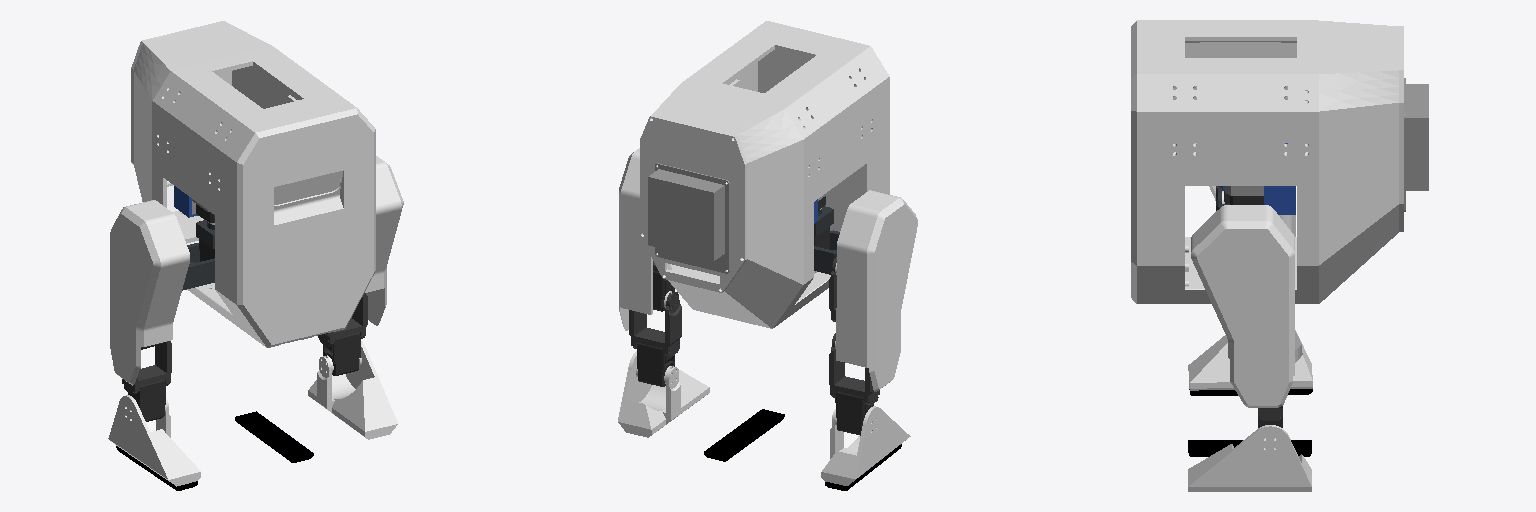
--- Render facts (derived) ---
3 views of the same robot in one strip: view 1: azimuth 30°, elevation 25°; view 2: azimuth 150°, elevation 25°; view 3: azimuth 270°, elevation 25° (orthographic).
Model my-robot with 11 links and 10 joints (10 revolute), rooted at front_panel, posed all joints at 0.
Links seen in each view (by area): view 1: front_panel, servo_holder_3_right, cushion_left, cushion_right, servo_holder_3_left, servo_holder_4_2, servo_holder_4, servo_holder_2_right, servo_holder_1_2; view 2: front_panel, servo_holder_3_right, cushion_left, servo_holder_3_left, cushion_right, servo_holder_4, servo_holder_4_2, servo_holder_2_right, servo_holder_1_2; view 3: front_panel, servo_holder_3_left, cushion_left, cushion_right.
Link boxes in pixels (<box>): front_panel: <box>131,21,375,347</box>; servo_holder_3_right: <box>110,200,189,385</box>; cushion_left: <box>235,341,397,462</box>; cushion_right: <box>108,395,200,490</box>; servo_holder_3_left: <box>365,156,403,325</box>; servo_holder_4_2: <box>122,341,171,421</box>; servo_holder_4: <box>318,293,367,375</box>; servo_holder_2_right: <box>182,243,214,290</box>; servo_holder_1_2: <box>196,220,214,261</box>; front_panel: <box>640,21,889,328</box>; servo_holder_3_right: <box>829,190,917,391</box>; cushion_left: <box>618,351,784,461</box>; servo_holder_3_left: <box>619,148,674,330</box>; cushion_right: <box>821,406,910,490</box>; servo_holder_4: <box>629,291,681,386</box>; servo_holder_4_2: <box>829,333,879,435</box>; servo_holder_2_right: <box>814,230,839,274</box>; servo_holder_1_2: <box>814,206,833,248</box>; front_panel: <box>1131,20,1428,303</box>; servo_holder_3_left: <box>1191,205,1294,407</box>; cushion_left: <box>1188,425,1311,491</box>; cushion_right: <box>1188,330,1312,395</box>.
Size in the robot's own frame: 0.3048 by 0.2892 by 0.4252 metres.
95 mesh visuals loaded from 30 distinct referenced files (30 binary STL).

URDF robot description (my-robot):
<?xml version="1.0" ?>
<!-- Generated using onshape-to-robot -->
<!-- Onshape https://cad.onshape.com/documents/d45957d307d6fbeba266d572/w/bd9f549c3008356ba09feb92/e/47fc9c88b37be00f7acb3002 -->
<robot name="my-robot">
  <!-- Link front_panel -->
  <link name="front_panel">
    <inertial>
      <origin xyz="5.38804e-07 0.137822 0.00392853" rpy="0 0 0"/>
      <mass value="2.11436"/>
      <inertia ixx="0.0268936" ixy="8.14474e-06" ixz="4.80392e-07" iyy="0.0159621" iyz="-0.000408514" izz="0.0215141"/>
    </inertial>
    <!-- Part top_left_panel -->
    <visual>
      <origin xyz="0 0 -1.38778e-17" rpy="0 -0 0"/>
      <geometry>
        <mesh filename="package://assets/top_left_panel.stl"/>
      </geometry>
      <material name="top_left_panel_material">
        <color rgba="0.917647 0.917647 0.917647 1"/>
      </material>
    </visual>
    <collision>
      <origin xyz="0 0 -1.38778e-17" rpy="0 -0 0"/>
      <geometry>
        <mesh filename="package://assets/top_left_panel.stl"/>
      </geometry>
    </collision>
    <!-- Part top_right_panel -->
    <visual>
      <origin xyz="1.38778e-17 0 1.38778e-17" rpy="0 -0 0"/>
      <geometry>
        <mesh filename="package://assets/top_right_panel.stl"/>
      </geometry>
      <material name="top_right_panel_material">
        <color rgba="0.917647 0.917647 0.917647 1"/>
      </material>
    </visual>
    <collision>
      <origin xyz="1.38778e-17 0 1.38778e-17" rpy="0 -0 0"/>
      <geometry>
        <mesh filename="package://assets/top_right_panel.stl"/>
      </geometry>
    </collision>
    <!-- Part front_panel -->
    <visual>
      <origin xyz="0 0 0" rpy="0 -0 0"/>
      <geometry>
        <mesh filename="package://assets/front_panel.stl"/>
      </geometry>
      <material name="front_panel_material">
        <color rgba="0.917647 0.917647 0.917647 1"/>
      </material>
    </visual>
    <collision>
      <origin xyz="0 0 0" rpy="0 -0 0"/>
      <geometry>
        <mesh filename="package://assets/front_panel.stl"/>
      </geometry>
    </collision>
    <!-- Part servo_housing_connector -->
    <visual>
      <origin xyz="0.0505 0.121693 -0.00780285" rpy="0 -0 0"/>
      <geometry>
        <mesh filename="package://assets/servo_housing_connector.stl"/>
      </geometry>
      <material name="servo_housing_connector_material">
        <color rgba="0.917647 0.917647 0.917647 1"/>
      </material>
    </visual>
    <collision>
      <origin xyz="0.0505 0.121693 -0.00780285" rpy="0 -0 0"/>
      <geometry>
        <mesh filename="package://assets/servo_housing_connector.stl"/>
      </geometry>
    </collision>
    <!-- Part bottom_frame -->
    <visual>
      <origin xyz="0 0.0931549 -0.132536" rpy="0 -0 0"/>
      <geometry>
        <mesh filename="package://assets/bottom_frame.stl"/>
      </geometry>
      <material name="bottom_frame_material">
        <color rgba="0.917647 0.917647 0.917647 1"/>
      </material>
    </visual>
    <collision>
      <origin xyz="0 0.0931549 -0.132536" rpy="0 -0 0"/>
      <geometry>
        <mesh filename="package://assets/bottom_frame.stl"/>
      </geometry>
    </collision>
    <!-- Part battery_holder -->
    <visual>
      <origin xyz="0 0.10869 0" rpy="0 -0 0"/>
      <geometry>
        <mesh filename="package://assets/battery_holder.stl"/>
      </geometry>
      <material name="battery_holder_material">
        <color rgba="0.647059 0.647059 0.647059 1"/>
      </material>
    </visual>
    <collision>
      <origin xyz="0 0.10869 0" rpy="0 -0 0"/>
      <geometry>
        <mesh filename="package://assets/battery_holder.stl"/>
      </geometry>
    </collision>
    <!-- Part servo_holder_right -->
    <visual>
      <origin xyz="0.0505 0.121693 -0.00780285" rpy="0 -0 4.93038e-32"/>
      <geometry>
        <mesh filename="package://assets/servo_holder_right.stl"/>
      </geometry>
      <material name="servo_holder_right_material">
        <color rgba="0.647059 0.647059 0.647059 1"/>
      </material>
    </visual>
    <collision>
      <origin xyz="0.0505 0.121693 -0.00780285" rpy="0 -0 4.93038e-32"/>
      <geometry>
        <mesh filename="package://assets/servo_holder_right.stl"/>
      </geometry>
    </collision>
    <!-- Part top_servo_housing -->
    <visual>
      <origin xyz="0.0505 0.121693 -0.00780285" rpy="0 -0 0"/>
      <geometry>
        <mesh filename="package://assets/top_servo_housing.stl"/>
      </geometry>
      <material name="top_servo_housing_material">
        <color rgba="0.231373 0.380392 0.705882 1"/>
      </material>
    </visual>
    <collision>
      <origin xyz="0.0505 0.121693 -0.00780285" rpy="0 -0 0"/>
      <geometry>
        <mesh filename="package://assets/top_servo_housing.stl"/>
      </geometry>
    </collision>
    <!-- Part servo_holder_left -->
    <visual>
      <origin xyz="0.0505 0.121693 -0.00780285" rpy="0 -0 0"/>
      <geometry>
        <mesh filename="package://assets/servo_holder_left.stl"/>
      </geometry>
      <material name="servo_holder_left_material">
        <color rgba="0.647059 0.647059 0.647059 1"/>
      </material>
    </visual>
    <collision>
      <origin xyz="0.0505 0.121693 -0.00780285" rpy="0 -0 0"/>
      <geometry>
        <mesh filename="package://assets/servo_holder_left.stl"/>
      </geometry>
    </collision>
    <!-- Part back_middle_connector_panel -->
    <visual>
      <origin xyz="0 0.10869 0" rpy="0 -0 0"/>
      <geometry>
        <mesh filename="package://assets/back_middle_connector_panel.stl"/>
      </geometry>
      <material name="back_middle_connector_panel_material">
        <color rgba="0.917647 0.917647 0.917647 1"/>
      </material>
    </visual>
    <collision>
      <origin xyz="0 0.10869 0" rpy="0 -0 0"/>
      <geometry>
        <mesh filename="package://assets/back_middle_connector_panel.stl"/>
      </geometry>
    </collision>
    <!-- Part intelrealsense_d435_multibody -->
    <visual>
      <origin xyz="8.31354e-18 -0.00242253 0.0378849" rpy="1.8326 -0 0"/>
      <geometry>
        <mesh filename="package://assets/intelrealsense_d435_multibody.stl"/>
      </geometry>
      <material name="intelrealsense_d435_multibody_material">
        <color rgba="0.917647 0.917647 0.917647 1"/>
      </material>
    </visual>
    <collision>
      <origin xyz="8.31354e-18 -0.00242253 0.0378849" rpy="1.8326 -0 0"/>
      <geometry>
        <mesh filename="package://assets/intelrealsense_d435_multibody.stl"/>
      </geometry>
    </collision>
    <!-- Part composant4 -->
    <visual>
      <origin xyz="-0.0505 0.109426 -0.00780285" rpy="0 -0 -1.5708"/>
      <geometry>
        <mesh filename="package://assets/composant4.stl"/>
      </geometry>
      <material name="composant4_material">
        <color rgba="0.952941 0.796078 0.486275 1"/>
      </material>
    </visual>
    <collision>
      <origin xyz="-0.0505 0.109426 -0.00780285" rpy="0 -0 -1.5708"/>
      <geometry>
        <mesh filename="package://assets/composant4.stl"/>
      </geometry>
    </collision>
    <!-- Part vis_à_tête_tronconique_jis_b_1111___m3_x_4___h_acier_inoxydable_a2_standard_v1 -->
    <visual>
      <origin xyz="-0.0505 0.109426 -0.00780285" rpy="0 -0 -1.5708"/>
      <geometry>
        <mesh filename="package://assets/vis_à_tête_tronconique_jis_b_1111___m3_x_4___h_acier_inoxydable_a2_standard_v1.stl"/>
      </geometry>
      <material name="vis_à_tête_tronconique_jis_b_1111___m3_x_4___h_acier_inoxydable_a2_standard_v1_material">
        <color rgba="0.796078 0.796078 0.796078 1"/>
      </material>
    </visual>
    <collision>
      <origin xyz="-0.0505 0.109426 -0.00780285" rpy="0 -0 -1.5708"/>
      <geometry>
        <mesh filename="package://assets/vis_à_tête_tronconique_jis_b_1111___m3_x_4___h_acier_inoxydable_a2_standard_v1.stl"/>
      </geometry>
    </collision>
    <!-- Part vis -->
    <visual>
      <origin xyz="-0.0505 0.109426 -0.00780285" rpy="0 -0 -1.5708"/>
      <geometry>
        <mesh filename="package://assets/vis.stl"/>
      </geometry>
      <material name="vis_material">
        <color rgba="0.0980392 0.0980392 0.0980392 1"/>
      </material>
    </visual>
    <collision>
      <origin xyz="-0.0505 0.109426 -0.00780285" rpy="0 -0 -1.5708"/>
      <geometry>
        <mesh filename="package://assets/vis.stl"/>
      </geometry>
    </collision>
    <!-- Part composant3 -->
    <visual>
      <origin xyz="-0.0505 0.109426 -0.00780285" rpy="0 -0 -1.5708"/>
      <geometry>
        <mesh filename="package://assets/composant3.stl"/>
      </geometry>
      <material name="composant3_material">
        <color rgba="0.960784 0.960784 0.964706 1"/>
      </material>
    </visual>
    <collision>
      <origin xyz="-0.0505 0.109426 -0.00780285" rpy="0 -0 -1.5708"/>
      <geometry>
        <mesh filename="package://assets/composant3.stl"/>
      </geometry>
    </collision>
    <!-- Part vis_1 -->
    <visual>
      <origin xyz="-0.0505 0.109426 -0.00780285" rpy="0 -0 -1.5708"/>
      <geometry>
        <mesh filename="package://assets/vis_1.stl"/>
      </geometry>
      <material name="vis_1_material">
        <color rgba="0.0980392 0.0980392 0.0980392 1"/>
      </material>
    </visual>
    <collision>
      <origin xyz="-0.0505 0.109426 -0.00780285" rpy="0 -0 -1.5708"/>
      <geometry>
        <mesh filename="package://assets/vis_1.stl"/>
      </geometry>
    </collision>
    <!-- Part composant2 -->
    <visual>
      <origin xyz="-0.0505 0.109426 -0.00780285" rpy="0 -0 -1.5708"/>
      <geometry>
        <mesh filename="package://assets/composant2.stl"/>
      </geometry>
      <material name="composant2_material">
        <color rgba="0.960784 0.960784 0.964706 1"/>
      </material>
    </visual>
    <collision>
      <origin xyz="-0.0505 0.109426 -0.00780285" rpy="0 -0 -1.5708"/>
      <geometry>
        <mesh filename="package://assets/composant2.stl"/>
      </geometry>
    </collision>
    <!-- Part servo_motor_sts3215_v10 -->
    <visual>
      <origin xyz="-0.0505 0.109426 -0.00780285" rpy="0 -0 -1.5708"/>
      <geometry>
        <mesh filename="package://assets/servo_motor_sts3215_v10.stl"/>
      </geometry>
      <material name="servo_motor_sts3215_v10_material">
        <color rgba="0.247059 0.247059 0.247059 1"/>
      </material>
    </visual>
    <collision>
      <origin xyz="-0.0505 0.109426 -0.00780285" rpy="0 -0 -1.5708"/>
      <geometry>
        <mesh filename="package://assets/servo_motor_sts3215_v10.stl"/>
      </geometry>
    </collision>
    <!-- Part composant4_2 -->
    <visual>
      <origin xyz="0.0505 0.109426 -0.00780285" rpy="0 -0 -1.5708"/>
      <geometry>
        <mesh filename="package://assets/composant4.stl"/>
      </geometry>
      <material name="composant4_2_material">
        <color rgba="0.952941 0.796078 0.486275 1"/>
      </material>
    </visual>
    <collision>
      <origin xyz="0.0505 0.109426 -0.00780285" rpy="0 -0 -1.5708"/>
      <geometry>
        <mesh filename="package://assets/composant4.stl"/>
      </geometry>
    </collision>
    <!-- Part vis_à_tête_tronconique_jis_b_1111___m3_x_4___h_acier_inoxydable_a2_standard_v1_2 -->
    <visual>
      <origin xyz="0.0505 0.109426 -0.00780285" rpy="0 -0 -1.5708"/>
      <geometry>
        <mesh filename="package://assets/vis_à_tête_tronconique_jis_b_1111___m3_x_4___h_acier_inoxydable_a2_standard_v1.stl"/>
      </geometry>
      <material name="vis_à_tête_tronconique_jis_b_1111___m3_x_4___h_acier_inoxydable_a2_standard_v1_2_material">
        <color rgba="0.796078 0.796078 0.796078 1"/>
      </material>
    </visual>
    <collision>
      <origin xyz="0.0505 0.109426 -0.00780285" rpy="0 -0 -1.5708"/>
      <geometry>
        <mesh filename="package://assets/vis_à_tête_tronconique_jis_b_1111___m3_x_4___h_acier_inoxydable_a2_standard_v1.stl"/>
      </geometry>
    </collision>
    <!-- Part vis_2 -->
    <visual>
      <origin xyz="0.0505 0.109426 -0.00780285" rpy="0 -0 -1.5708"/>
      <geometry>
        <mesh filename="package://assets/vis.stl"/>
      </geometry>
      <material name="vis_2_material">
        <color rgba="0.0980392 0.0980392 0.0980392 1"/>
      </material>
    </visual>
    <collision>
      <origin xyz="0.0505 0.109426 -0.00780285" rpy="0 -0 -1.5708"/>
      <geometry>
        <mesh filename="package://assets/vis.stl"/>
      </geometry>
    </collision>
    <!-- Part composant3_2 -->
    <visual>
      <origin xyz="0.0505 0.109426 -0.00780285" rpy="0 -0 -1.5708"/>
      <geometry>
        <mesh filename="package://assets/composant3.stl"/>
      </geometry>
      <material name="composant3_2_material">
        <color rgba="0.960784 0.960784 0.964706 1"/>
      </material>
    </visual>
    <collision>
      <origin xyz="0.0505 0.109426 -0.00780285" rpy="0 -0 -1.5708"/>
      <geometry>
        <mesh filename="package://assets/composant3.stl"/>
      </geometry>
    </collision>
    <!-- Part vis_1_2 -->
    <visual>
      <origin xyz="0.0505 0.109426 -0.00780285" rpy="0 -0 -1.5708"/>
      <geometry>
        <mesh filename="package://assets/vis_1.stl"/>
      </geometry>
      <material name="vis_1_2_material">
        <color rgba="0.0980392 0.0980392 0.0980392 1"/>
      </material>
    </visual>
    <collision>
      <origin xyz="0.0505 0.109426 -0.00780285" rpy="0 -0 -1.5708"/>
      <geometry>
        <mesh filename="package://assets/vis_1.stl"/>
      </geometry>
    </collision>
    <!-- Part composant2_2 -->
    <visual>
      <origin xyz="0.0505 0.109426 -0.00780285" rpy="0 -0 -1.5708"/>
      <geometry>
        <mesh filename="package://assets/composant2.stl"/>
      </geometry>
      <material name="composant2_2_material">
        <color rgba="0.960784 0.960784 0.964706 1"/>
      </material>
    </visual>
    <collision>
      <origin xyz="0.0505 0.109426 -0.00780285" rpy="0 -0 -1.5708"/>
      <geometry>
        <mesh filename="package://assets/composant2.stl"/>
      </geometry>
    </collision>
    <!-- Part servo_motor_sts3215_v10_2 -->
    <visual>
      <origin xyz="0.0505 0.109426 -0.00780285" rpy="0 -0 -1.5708"/>
      <geometry>
        <mesh filename="package://assets/servo_motor_sts3215_v10.stl"/>
      </geometry>
      <material name="servo_motor_sts3215_v10_2_material">
        <color rgba="0.247059 0.247059 0.247059 1"/>
      </material>
    </visual>
    <collision>
      <origin xyz="0.0505 0.109426 -0.00780285" rpy="0 -0 -1.5708"/>
      <geometry>
        <mesh filename="package://assets/servo_motor_sts3215_v10.stl"/>
      </geometry>
    </collision>
  </link>
  <!-- Link servo_holder_1 -->
  <link name="servo_holder_1">
    <inertial>
      <origin xyz="0.000579635 -1.8372e-05 -0.0271009" rpy="0 0 0"/>
      <mass value="0.0493776"/>
      <inertia ixx="1.33434e-05" ixy="-5.36033e-10" ixz="2.26521e-07" iyy="1.60993e-05" iyz="2.33279e-08" izz="8.54377e-06"/>
    </inertial>
    <!-- Part servo_holder_1 -->
    <visual>
      <origin xyz="0 0 -0.003" rpy="0 -0 1.80228e-52"/>
      <geometry>
        <mesh filename="package://assets/servo_holder_1.stl"/>
      </geometry>
      <material name="servo_holder_1_material">
        <color rgba="0.262745 0.282353 0.301961 1"/>
      </material>
    </visual>
    <collision>
      <origin xyz="0 0 -0.003" rpy="0 -0 1.80228e-52"/>
      <geometry>
        <mesh filename="package://assets/servo_holder_1.stl"/>
      </geometry>
    </collision>
    <!-- Part composant4_3 -->
    <visual>
      <origin xyz="-1.38778e-17 0 -0.0307" rpy="-1.19758e-48 1.5708 0"/>
      <geometry>
        <mesh filename="package://assets/composant4.stl"/>
      </geometry>
      <material name="composant4_3_material">
        <color rgba="0.952941 0.796078 0.486275 1"/>
      </material>
    </visual>
    <collision>
      <origin xyz="-1.38778e-17 0 -0.0307" rpy="-1.19758e-48 1.5708 0"/>
      <geometry>
        <mesh filename="package://assets/composant4.stl"/>
      </geometry>
    </collision>
    <!-- Part vis_à_tête_tronconique_jis_b_1111___m3_x_4___h_acier_inoxydable_a2_standard_v1_3 -->
    <visual>
      <origin xyz="-1.38778e-17 0 -0.0307" rpy="-1.19758e-48 1.5708 0"/>
      <geometry>
        <mesh filename="package://assets/vis_à_tête_tronconique_jis_b_1111___m3_x_4___h_acier_inoxydable_a2_standard_v1.stl"/>
      </geometry>
      <material name="vis_à_tête_tronconique_jis_b_1111___m3_x_4___h_acier_inoxydable_a2_standard_v1_3_material">
        <color rgba="0.796078 0.796078 0.796078 1"/>
      </material>
    </visual>
    <collision>
      <origin xyz="-1.38778e-17 0 -0.0307" rpy="-1.19758e-48 1.5708 0"/>
      <geometry>
        <mesh filename="package://assets/vis_à_tête_tronconique_jis_b_1111___m3_x_4___h_acier_inoxydable_a2_standard_v1.stl"/>
      </geometry>
    </collision>
    <!-- Part vis_3 -->
    <visual>
      <origin xyz="-1.38778e-17 0 -0.0307" rpy="-1.19758e-48 1.5708 0"/>
      <geometry>
        <mesh filename="package://assets/vis.stl"/>
      </geometry>
      <material name="vis_3_material">
        <color rgba="0.0980392 0.0980392 0.0980392 1"/>
      </material>
    </visual>
    <collision>
      <origin xyz="-1.38778e-17 0 -0.0307" rpy="-1.19758e-48 1.5708 0"/>
      <geometry>
        <mesh filename="package://assets/vis.stl"/>
      </geometry>
    </collision>
    <!-- Part composant3_3 -->
    <visual>
      <origin xyz="-1.38778e-17 0 -0.0307" rpy="-1.19758e-48 1.5708 0"/>
      <geometry>
        <mesh filename="package://assets/composant3.stl"/>
      </geometry>
      <material name="composant3_3_material">
        <color rgba="0.960784 0.960784 0.964706 1"/>
      </material>
    </visual>
    <collision>
      <origin xyz="-1.38778e-17 0 -0.0307" rpy="-1.19758e-48 1.5708 0"/>
      <geometry>
        <mesh filename="package://assets/composant3.stl"/>
      </geometry>
    </collision>
    <!-- Part vis_1_3 -->
    <visual>
      <origin xyz="-1.38778e-17 0 -0.0307" rpy="-1.19758e-48 1.5708 0"/>
      <geometry>
        <mesh filename="package://assets/vis_1.stl"/>
      </geometry>
      <material name="vis_1_3_material">
        <color rgba="0.0980392 0.0980392 0.0980392 1"/>
      </material>
    </visual>
    <collision>
      <origin xyz="-1.38778e-17 0 -0.0307" rpy="-1.19758e-48 1.5708 0"/>
      <geometry>
        <mesh filename="package://assets/vis_1.stl"/>
      </geometry>
    </collision>
    <!-- Part composant2_3 -->
    <visual>
      <origin xyz="-1.38778e-17 0 -0.0307" rpy="-1.19758e-48 1.5708 0"/>
      <geometry>
        <mesh filename="package://assets/composant2.stl"/>
      </geometry>
      <material name="composant2_3_material">
        <color rgba="0.960784 0.960784 0.964706 1"/>
      </material>
    </visual>
    <collision>
      <origin xyz="-1.38778e-17 0 -0.0307" rpy="-1.19758e-48 1.5708 0"/>
      <geometry>
        <mesh filename="package://assets/composant2.stl"/>
      </geometry>
    </collision>
    <!-- Part servo_motor_sts3215_v10_3 -->
    <visual>
      <origin xyz="-1.38778e-17 0 -0.0307" rpy="-1.19758e-48 1.5708 0"/>
      <geometry>
        <mesh filename="package://assets/servo_motor_sts3215_v10.stl"/>
      </geometry>
      <material name="servo_motor_sts3215_v10_3_material">
        <color rgba="0.247059 0.247059 0.247059 1"/>
      </material>
    </visual>
    <collision>
      <origin xyz="-1.38778e-17 0 -0.0307" rpy="-1.19758e-48 1.5708 0"/>
      <geometry>
        <mesh filename="package://assets/servo_motor_sts3215_v10.stl"/>
      </geometry>
    </collision>
  </link>
  <!-- Link servo_holder_2_left -->
  <link name="servo_holder_2_left">
    <inertial>
      <origin xyz="0.0580813 -0.000684249 0.0163595" rpy="0 0 0"/>
      <mass value="0.102592"/>
      <inertia ixx="4.1094e-05" ixy="-1.77793e-06" ixz="2.83518e-06" iyy="7.91882e-05" iyz="2.87726e-07" izz="5.09334e-05"/>
    </inertial>
    <!-- Part servo_holder_2_left -->
    <visual>
      <origin xyz="0 0.0182 0.0182" rpy="-1.5708 -1.80228e-52 0"/>
      <geometry>
        <mesh filename="package://assets/servo_holder_2_left.stl"/>
      </geometry>
      <material name="servo_holder_2_left_material">
        <color rgba="0.262745 0.282353 0.301961 1"/>
      </material>
    </visual>
    <collision>
      <origin xyz="0 0.0182 0.0182" rpy="-1.5708 -1.80228e-52 0"/>
      <geometry>
        <mesh filename="package://assets/servo_holder_2_left.stl"/>
      </geometry>
    </collision>
    <!-- Part composant4_4 -->
    <visual>
      <origin xyz="0.0689457 1.38778e-17 0.00149936" rpy="-3.14159 1.5708 0"/>
      <geometry>
        <mesh filename="package://assets/composant4.stl"/>
      </geometry>
      <material name="composant4_4_material">
        <color rgba="0.952941 0.796078 0.486275 1"/>
      </material>
    </visual>
    <collision>
      <origin xyz="0.0689457 1.38778e-17 0.00149936" rpy="-3.14159 1.5708 0"/>
      <geometry>
        <mesh filename="package://assets/composant4.stl"/>
      </geometry>
    </collision>
    <!-- Part vis_à_tête_tronconique_jis_b_1111___m3_x_4___h_acier_inoxydable_a2_standard_v1_4 -->
    <visual>
      <origin xyz="0.0689457 1.38778e-17 0.00149936" rpy="-3.14159 1.5708 0"/>
      <geometry>
        <mesh filename="package://assets/vis_à_tête_tronconique_jis_b_1111___m3_x_4___h_acier_inoxydable_a2_standard_v1.stl"/>
      </geometry>
      <material name="vis_à_tête_tronconique_jis_b_1111___m3_x_4___h_acier_inoxydable_a2_standard_v1_4_material">
        <color rgba="0.796078 0.796078 0.796078 1"/>
      </material>
    </visual>
    <collision>
      <origin xyz="0.0689457 1.38778e-17 0.00149936" rpy="-3.14159 1.5708 0"/>
      <geometry>
        <mesh filename="package://assets/vis_à_tête_tronconique_jis_b_1111___m3_x_4___h_acier_inoxydable_a2_standard_v1.stl"/>
      </geometry>
    </collision>
    <!-- Part vis_4 -->
    <visual>
      <origin xyz="0.0689457 1.38778e-17 0.00149936" rpy="-3.14159 1.5708 0"/>
      <geometry>
        <mesh filename="package://assets/vis.stl"/>
      </geometry>
      <material name="vis_4_material">
        <color rgba="0.0980392 0.0980392 0.0980392 1"/>
      </material>
    </visual>
    <collision>
      <origin xyz="0.0689457 1.38778e-17 0.00149936" rpy="-3.14159 1.5708 0"/>
      <geometry>
        <mesh filename="package://assets/vis.stl"/>
      </geometry>
    </collision>
    <!-- Part composant3_4 -->
    <visual>
      <origin xyz="0.0689457 1.38778e-17 0.00149936" rpy="-3.14159 1.5708 0"/>
      <geometry>
        <mesh filename="package://assets/composant3.stl"/>
      </geometry>
      <material name="composant3_4_material">
        <color rgba="0.960784 0.960784 0.964706 1"/>
      </material>
    </visual>
    <collision>
      <origin xyz="0.0689457 1.38778e-17 0.00149936" rpy="-3.14159 1.5708 0"/>
      <geometry>
        <mesh filename="package://assets/composant3.stl"/>
      </geometry>
    </collision>
    <!-- Part vis_1_4 -->
    <visual>
      <origin xyz="0.0689457 1.38778e-17 0.00149936" rpy="-3.14159 1.5708 0"/>
      <geometry>
        <mesh filename="package://assets/vis_1.stl"/>
      </geometry>
      <material name="vis_1_4_material">
        <color rgba="0.0980392 0.0980392 0.0980392 1"/>
      </material>
    </visual>
    <collision>
      <origin xyz="0.0689457 1.38778e-17 0.00149936" rpy="-3.14159 1.5708 0"/>
      <geometry>
        <mesh filename="package://assets/vis_1.stl"/>
      </geometry>
    </collision>
    <!-- Part composant2_4 -->
    <visual>
      <origin xyz="0.0689457 1.38778e-17 0.00149936" rpy="-3.14159 1.5708 0"/>
      <geometry>
        <mesh filename="package://assets/composant2.stl"/>
      </geometry>
      <material name="composant2_4_material">
        <color rgba="0.960784 0.960784 0.964706 1"/>
      </material>
    </visual>
    <collision>
      <origin xyz="0.0689457 1.38778e-17 0.00149936" rpy="-3.14159 1.5708 0"/>
      <geometry>
        <mesh filename="package://assets/composant2.stl"/>
      </geometry>
    </collision>
    <!-- Part servo_motor_sts3215_v10_4 -->
    <visual>
      <origin xyz="0.0689457 1.38778e-17 0.00149936" rpy="-3.14159 1.5708 0"/>
      <geometry>
        <mesh filename="package://assets/servo_motor_sts3215_v10.stl"/>
      </geometry>
      <material name="servo_motor_sts3215_v10_4_material">
        <color rgba="0.247059 0.247059 0.247059 1"/>
      </material>
    </visual>
    <collision>
      <origin xyz="0.0689457 1.38778e-17 0.00149936" rpy="-3.14159 1.5708 0"/>
      <geometry>
        <mesh filename="package://assets/servo_motor_sts3215_v10.stl"/>
      </geometry>
    </collision>
  </link>
  <!-- Link servo_holder_3_left -->
  <link name="servo_holder_3_left">
    <inertial>
      <origin xyz="0.0267296 0.0112713 0.00428749" rpy="0 0 0"/>
      <mass value="0.19139"/>
      <inertia ixx="0.000183612" ixy="8.65452e-05" ixz="-2.98109e-05" iyy="0.000536696" iyz="1.59908e-05" izz="0.000608291"/>
    </inertial>
    <!-- Part servo_shield_left -->
    <visual>
      <origin xyz="-1.38778e-17 2.77556e-17 0" rpy="3.14159 1.20371e-35 1.9082e-54"/>
      <geometry>
        <mesh filename="package://assets/servo_shield_left.stl"/>
      </geometry>
      <material name="servo_shield_left_material">
        <color rgba="0.917647 0.917647 0.917647 1"/>
      </material>
    </visual>
    <collision>
      <origin xyz="-1.38778e-17 2.77556e-17 0" rpy="3.14159 1.20371e-35 1.9082e-54"/>
      <geometry>
        <mesh filename="package://assets/servo_shield_left.stl"/>
      </geometry>
    </collision>
    <!-- Part servo_holder_3_left -->
    <visual>
      <origin xyz="0 0 0" rpy="3.14159 -0 0"/>
      <geometry>
        <mesh filename="package://assets/servo_holder_3_left.stl"/>
      </geometry>
      <material name="servo_holder_3_left_material">
        <color rgba="0.301961 0.301961 0.301961 1"/>
      </material>
    </visual>
    <collision>
      <origin xyz="0 0 0" rpy="3.14159 -0 0"/>
      <geometry>
        <mesh filename="package://assets/servo_holder_3_left.stl"/>
      </geometry>
    </collision>
    <!-- Part composant4_5 -->
    <visual>
      <origin xyz="0.0732925 0 0.0178756" rpy="2.40741e-35 -0 0"/>
      <geometry>
        <mesh filename="package://assets/composant4.stl"/>
      </geometry>
      <material name="composant4_5_material">
        <color rgba="0.952941 0.796078 0.486275 1"/>
      </material>
    </visual>
    <collision>
      <origin xyz="0.0732925 0 0.0178756" rpy="2.40741e-35 -0 0"/>
      <geometry>
        <mesh filename="package://assets/composant4.stl"/>
      </geometry>
    </collision>
    <!-- Part vis_à_tête_tronconique_jis_b_1111___m3_x_4___h_acier_inoxydable_a2_standard_v1_5 -->
    <visual>
      <origin xyz="0.0732925 0 0.0178756" rpy="2.40741e-35 -0 0"/>
      <geometry>
        <mesh filename="package://assets/vis_à_tête_tronconique_jis_b_1111___m3_x_4___h_acier_inoxydable_a2_standard_v1.stl"/>
      </geometry>
      <material name="vis_à_tête_tronconique_jis_b_1111___m3_x_4___h_acier_inoxydable_a2_standard_v1_5_material">
        <color rgba="0.796078 0.796078 0.796078 1"/>
      </material>
    </visual>
    <collision>
      <origin xyz="0.0732925 0 0.0178756" rpy="2.40741e-35 -0 0"/>
      <geometry>
        <mesh filename="package://assets/vis_à_tête_tronconique_jis_b_1111___m3_x_4___h_acier_inoxydable_a2_standard_v1.stl"/>
      </geometry>
    </collision>
    <!-- Part vis_5 -->
    <visual>
      <origin xyz="0.0732925 0 0.0178756" rpy="2.40741e-35 -0 0"/>
      <geometry>
        <mesh filename="package://assets/vis.stl"/>
      </geometry>
      <material name="vis_5_material">
        <color rgba="0.0980392 0.0980392 0.0980392 1"/>
      </material>
    </visual>
    <collision>
      <origin xyz="0.0732925 0 0.0178756" rpy="2.40741e-35 -0 0"/>
      <geometry>
        <mesh filename="package://assets/vis.stl"/>
      </geometry>
    </collision>
    <!-- Part composant3_5 -->
    <visual>
      <origin xyz="0.0732925 0 0.0178756" rpy="2.40741e-35 -0 0"/>
      <geometry>
        <mesh filename="package://assets/composant3.stl"/>
      </geometry>
      <material name="composant3_5_material">
        <color rgba="0.960784 0.960784 0.964706 1"/>
      </material>
    </visual>
    <collision>
      <origin xyz="0.0732925 0 0.0178756" rpy="2.40741e-35 -0 0"/>
      <geometry>
        <mesh filename="package://assets/composant3.stl"/>
      </geometry>
    </collision>
    <!-- Part vis_1_5 -->
    <visual>
      <origin xyz="0.0732925 0 0.0178756" rpy="2.40741e-35 -0 0"/>
      <geometry>
        <mesh filename="package://assets/vis_1.stl"/>
      </geometry>
      <material name="vis_1_5_material">
        <color rgba="0.0980392 0.0980392 0.0980392 1"/>
      </material>
    </visual>
    <collision>
      <origin xyz="0.0732925 0 0.0178756" rpy="2.40741e-35 -0 0"/>
      <geometry>
        <mesh filename="package://assets/vis_1.stl"/>
      </geometry>
    </collision>
    <!-- Part composant2_5 -->
    <visual>
      <origin xyz="0.0732925 0 0.0178756" rpy="2.40741e-35 -0 0"/>
      <geometry>
        <mesh filename="package://assets/composant2.stl"/>
      </geometry>
      <material name="composant2_5_material">
        <color rgba="0.960784 0.960784 0.964706 1"/>
      </material>
    </visual>
    <collision>
      <origin xyz="0.0732925 0 0.0178756" rpy="2.40741e-35 -0 0"/>
      <geometry>
        <mesh filename="package://assets/composant2.stl"/>
      </geometry>
    </collision>
    <!-- Part servo_motor_sts3215_v10_5 -->
    <visual>
      <origin xyz="0.0732925 0 0.0178756" rpy="2.40741e-35 -0 0"/>
      <geometry>
        <mesh filename="package://assets/servo_motor_sts3215_v10.stl"/>
      </geometry>
      <material name="servo_motor_sts3215_v10_5_material">
        <color rgba="0.247059 0.247059 0.247059 1"/>
      </material>
    </visual>
    <collision>
      <origin xyz="0.0732925 0 0.0178756" rpy="2.40741e-35 -0 0"/>
      <geometry>
        <mesh filename="package://assets/servo_motor_sts3215_v10.stl"/>
      </geometry>
    </collision>
  </link>
  <!-- Link servo_holder_4 -->
  <link name="servo_holder_4">
    <inertial>
      <origin xyz="0.0568324 -1.23844e-08 0.0184417" rpy="0 0 0"/>
      <mass value="0.0685705"/>
      <inertia ixx="1.76251e-05" ixy="1.73396e-11" ixz="-3.72672e-07" iyy="5.60759e-05" iyz="-1.06476e-11" izz="4.51319e-05"/>
    </inertial>
    <!-- Part servo_holder_4 -->
    <visual>
      <origin xyz="0 0 0" rpy="-3.14159 2.73691e-47 2.60541e-65"/>
      <geometry>
        <mesh filename="package://assets/servo_holder_4.stl"/>
      </geometry>
      <material name="servo_holder_4_material">
        <color rgba="0.301961 0.301961 0.301961 1"/>
      </material>
    </visual>
    <collision>
      <origin xyz="0 0 0" rpy="-3.14159 2.73691e-47 2.60541e-65"/>
      <geometry>
        <mesh filename="package://assets/servo_holder_4.stl"/>
      </geometry>
    </collision>
    <!-- Part composant4_6 -->
    <visual>
      <origin xyz="0.0732925 0 0.0178756" rpy="-1.31228e-30 -7.65581e-31 -6.13909e-17"/>
      <geometry>
        <mesh filename="package://assets/composant4.stl"/>
      </geometry>
      <material name="composant4_6_material">
        <color rgba="0.952941 0.796078 0.486275 1"/>
      </material>
    </visual>
    <collision>
      <origin xyz="0.0732925 0 0.0178756" rpy="-1.31228e-30 -7.65581e-31 -6.13909e-17"/>
      <geometry>
        <mesh filename="package://assets/composant4.stl"/>
      </geometry>
    </collision>
    <!-- Part vis_à_tête_tronconique_jis_b_1111___m3_x_4___h_acier_inoxydable_a2_standard_v1_6 -->
    <visual>
      <origin xyz="0.0732925 0 0.0178756" rpy="-1.31228e-30 -7.65581e-31 -6.13909e-17"/>
      <geometry>
        <mesh filename="package://assets/vis_à_tête_tronconique_jis_b_1111___m3_x_4___h_acier_inoxydable_a2_standard_v1.stl"/>
      </geometry>
      <material name="vis_à_tête_tronconique_jis_b_1111___m3_x_4___h_acier_inoxydable_a2_standard_v1_6_material">
        <color rgba="0.796078 0.796078 0.796078 1"/>
      </material>
    </visual>
    <collision>
      <origin xyz="0.0732925 0 0.0178756" rpy="-1.31228e-30 -7.65581e-31 -6.13909e-17"/>
      <geometry>
        <mesh filename="package://assets/vis_à_tête_tronconique_jis_b_1111___m3_x_4___h_acier_inoxydable_a2_standard_v1.stl"/>
      </geometry>
    </collision>
    <!-- Part vis_6 -->
    <visual>
      <origin xyz="0.0732925 0 0.0178756" rpy="-1.31228e-30 -7.65581e-31 -6.13909e-17"/>
      <geometry>
        <mesh filename="package://assets/vis.stl"/>
      </geometry>
      <material name="vis_6_material">
        <color rgba="0.0980392 0.0980392 0.0980392 1"/>
      </material>
    </visual>
    <collision>
      <origin xyz="0.0732925 0 0.0178756" rpy="-1.31228e-30 -7.65581e-31 -6.13909e-17"/>
      <geometry>
        <mesh filename="package://assets/vis.stl"/>
      </geometry>
    </collision>
    <!-- Part composant3_6 -->
    <visual>
      <origin xyz="0.0732925 0 0.0178756" rpy="-1.31228e-30 -7.65581e-31 -6.13909e-17"/>
      <geometry>
        <mesh filename="package://assets/composant3.stl"/>
      </geometry>
      <material name="composant3_6_material">
        <color rgba="0.960784 0.960784 0.964706 1"/>
      </material>
    </visual>
    <collision>
      <origin xyz="0.0732925 0 0.0178756" rpy="-1.31228e-30 -7.65581e-31 -6.13909e-17"/>
      <geometry>
        <mesh filename="package://assets/composant3.stl"/>
      </geometry>
    </collision>
    <!-- Part vis_1_6 -->
    <visual>
      <origin xyz="0.0732925 0 0.0178756" rpy="-1.31228e-30 -7.65581e-31 -6.13909e-17"/>
      <geometry>
        <mesh filename="package://assets/vis_1.stl"/>
      </geometry>
      <material name="vis_1_6_material">
        <color rgba="0.0980392 0.0980392 0.0980392 1"/>
      </material>
    </visual>
    <collision>
      <origin xyz="0.0732925 0 0.0178756" rpy="-1.31228e-30 -7.65581e-31 -6.13909e-17"/>
      <geometry>
        <mesh filename="package://assets/vis_1.stl"/>
      </geometry>
    </collision>
    <!-- Part composant2_6 -->
    <visual>
      <origin xyz="0.0732925 0 0.0178756" rpy="-1.31228e-30 -7.65581e-31 -6.13909e-17"/>
      <geometry>
        <mesh filename="package://assets/composant2.stl"/>
      </geometry>
      <material name="composant2_6_material">
        <color rgba="0.960784 0.960784 0.964706 1"/>
      </material>
    </visual>
    <collision>
      <origin xyz="0.0732925 0 0.0178756" rpy="-1.31228e-30 -7.65581e-31 -6.13909e-17"/>
      <geometry>
        <mesh filename="package://assets/composant2.stl"/>
      </geometry>
    </collision>
    <!-- Part servo_motor_sts3215_v10_6 -->
    <visual>
      <origin xyz="0.0732925 0 0.0178756" rpy="-1.31228e-30 -7.65581e-31 -6.13909e-17"/>
      <geometry>
        <mesh filename="package://assets/servo_motor_sts3215_v10.stl"/>
      </geometry>
      <material name="servo_motor_sts3215_v10_6_material">
        <color rgba="0.247059 0.247059 0.247059 1"/>
      </material>
    </visual>
    <collision>
      <origin xyz="0.0732925 0 0.0178756" rpy="-1.31228e-30 -7.65581e-31 -6.13909e-17"/>
      <geometry>
        <mesh filename="package://assets/servo_motor_sts3215_v10.stl"/>
      </geometry>
    </collision>
  </link>
  <!-- Link cushion_left -->
  <link name="cushion_left">
    <inertial>
      <origin xyz="-0.0194706 0.0420367 0.0158895" rpy="0 0 0"/>
      <mass value="0.191143"/>
      <inertia ixx="6.6193e-05" ixy="3.74292e-06" ixz="-1.39334e-06" iyy="0.000224241" iyz="-9.58455e-06" izz="0.00023826"/>
    </inertial>
    <!-- Part foot_left -->
    <visual>
      <origin xyz="0 0.0516163 0.0390687" rpy="1.5708 1.5708 0"/>
      <geometry>
        <mesh filename="package://assets/foot_left.stl"/>
      </geometry>
      <material name="foot_left_material">
        <color rgba="0.917647 0.917647 0.917647 1"/>
      </material>
    </visual>
    <!-- Part cushion_left -->
    <visual>
      <origin xyz="0 0.0516163 0.132131" rpy="1.5708 1.5708 0"/>
      <geometry>
        <mesh filename="package://assets/cushion_left.stl"/>
      </geometry>
      <material name="cushion_left_material">
        <color rgba="0 0 0 1"/>
      </material>
    </visual>
    <collision>
      <origin xyz="0 0.0516163 0.132131" rpy="1.5708 1.5708 0"/>
      <geometry>
        <mesh filename="package://assets/cushion_left.stl"/>
      </geometry>
    </collision>
  </link>
  <!-- Joint from servo_holder_4 to cushion_left -->
  <joint name="joint_5_left" type="revolute">
    <origin xyz="0.0857925 0 0.0365756" rpy="3.14159 1.31228e-30 1.5708"/>
    <parent link="servo_holder_4"/>
    <child link="cushion_left"/>
    <axis xyz="0 0 1"/>
    <limit effort="2.686" velocity="9.01" lower="-1.5708" upper="1.5708"/>
    <dynamics damping="0.1" friction="0.05"/>
  </joint>
  <!-- Joint from servo_holder_3_left to servo_holder_4 -->
  <joint name="joint_4_left" type="revolute">
    <origin xyz="0.0857925 0 0.0365756" rpy="-3.14159 -9.52697e-31 -1.51028e-49"/>
    <parent link="servo_holder_3_left"/>
    <child link="servo_holder_4"/>
    <axis xyz="0 0 1"/>
    <limit effort="2.686" velocity="9.01" lower="-1.13446" upper="0.558505"/>
    <dynamics damping="0.1" friction="0.05"/>
  </joint>
  <!-- Joint from servo_holder_2_left to servo_holder_3_left -->
  <joint name="joint_3_left" type="revolute">
    <origin xyz="0.0866457 1.38778e-17 -0.0110006" rpy="1.5708 1.58527e-19 -1.5708"/>
    <parent link="servo_holder_2_left"/>
    <child link="servo_holder_3_left"/>
    <axis xyz="0 0 1"/>
    <limit effort="2.686" velocity="9.01" lower="-3.14159" upper="0.349066"/>
    <dynamics damping="0.1" friction="0.05"/>
  </joint>
  <!-- Joint from servo_holder_1 to servo_holder_2_left -->
  <joint name="joint_2_left" type="revolute">
    <origin xyz="0.0187 0 -0.0432" rpy="1.5708 -0 -1.5708"/>
    <parent link="servo_holder_1"/>
    <child link="servo_holder_2_left"/>
    <axis xyz="0 0 1"/>
    <limit effort="2.686" velocity="9.01" lower="-0.698132" upper="0.785398"/>
    <dynamics damping="0.1" friction="0.05"/>
  </joint>
  <!-- Joint from front_panel to servo_holder_1 -->
  <joint name="joint_1_left" type="revolute">
    <origin xyz="0.0505 0.0969262 -0.0255029" rpy="-3.02761e-17 1.58527e-19 1.5708"/>
    <parent link="front_panel"/>
    <child link="servo_holder_1"/>
    <axis xyz="0 0 1"/>
    <limit effort="2.686" velocity="9.01" lower="-0.349066" upper="0.349066"/>
    <dynamics damping="0.1" friction="0.05"/>
  </joint>
  <!-- Link servo_holder_1_2 -->
  <link name="servo_holder_1_2">
    <inertial>
      <origin xyz="-0.000456244 -1.83429e-05 -0.0271009" rpy="0 0 0"/>
      <mass value="0.0493776"/>
      <inertia ixx="1.33434e-05" ixy="4.03024e-10" ixz="-3.15573e-07" iyy="1.61056e-05" iyz="2.33556e-08" izz="8.55008e-06"/>
    </inertial>
    <!-- Part servo_holder_1_2 -->
    <visual>
      <origin xyz="0 0 -0.003" rpy="0 -0 1.94261e-48"/>
      <geometry>
        <mesh filename="package://assets/servo_holder_1.stl"/>
      </geometry>
      <material name="servo_holder_1_2_material">
        <color rgba="0.262745 0.282353 0.301961 1"/>
      </material>
    </visual>
    <collision>
      <origin xyz="0 0 -0.003" rpy="0 -0 1.94261e-48"/>
      <geometry>
        <mesh filename="package://assets/servo_holder_1.stl"/>
      </geometry>
    </collision>
    <!-- Part composant4_7 -->
    <visual>
      <origin xyz="0 0 -0.0307" rpy="3.14159 1.5708 0"/>
      <geometry>
        <mesh filename="package://assets/composant4.stl"/>
      </geometry>
      <material name="composant4_7_material">
        <color rgba="0.952941 0.796078 0.486275 1"/>
      </material>
    </visual>
    <collision>
      <origin xyz="0 0 -0.0307" rpy="3.14159 1.5708 0"/>
      <geometry>
        <mesh filename="package://assets/composant4.stl"/>
      </geometry>
    </collision>
    <!-- Part vis_à_tête_tronconique_jis_b_1111___m3_x_4___h_acier_inoxydable_a2_standard_v1_7 -->
    <visual>
      <origin xyz="0 0 -0.0307" rpy="3.14159 1.5708 0"/>
      <geometry>
        <mesh filename="package://assets/vis_à_tête_tronconique_jis_b_1111___m3_x_4___h_acier_inoxydable_a2_standard_v1.stl"/>
      </geometry>
      <material name="vis_à_tête_tronconique_jis_b_1111___m3_x_4___h_acier_inoxydable_a2_standard_v1_7_material">
        <color rgba="0.796078 0.796078 0.796078 1"/>
      </material>
    </visual>
    <collision>
      <origin xyz="0 0 -0.0307" rpy="3.14159 1.5708 0"/>
      <geometry>
        <mesh filename="package://assets/vis_à_tête_tronconique_jis_b_1111___m3_x_4___h_acier_inoxydable_a2_standard_v1.stl"/>
      </geometry>
    </collision>
    <!-- Part vis_7 -->
    <visual>
      <origin xyz="0 0 -0.0307" rpy="3.14159 1.5708 0"/>
      <geometry>
        <mesh filename="package://assets/vis.stl"/>
      </geometry>
      <material name="vis_7_material">
        <color rgba="0.0980392 0.0980392 0.0980392 1"/>
      </material>
    </visual>
    <collision>
      <origin xyz="0 0 -0.0307" rpy="3.14159 1.5708 0"/>
      <geometry>
        <mesh filename="package://assets/vis.stl"/>
      </geometry>
    </collision>
    <!-- Part composant3_7 -->
    <visual>
      <origin xyz="0 0 -0.0307" rpy="3.14159 1.5708 0"/>
      <geometry>
        <mesh filename="package://assets/composant3.stl"/>
      </geometry>
      <material name="composant3_7_material">
        <color rgba="0.960784 0.960784 0.964706 1"/>
      </material>
    </visual>
    <collision>
      <origin xyz="0 0 -0.0307" rpy="3.14159 1.5708 0"/>
      <geometry>
        <mesh filename="package://assets/composant3.stl"/>
      </geometry>
    </collision>
    <!-- Part vis_1_7 -->
    <visual>
      <origin xyz="0 0 -0.0307" rpy="3.14159 1.5708 0"/>
      <geometry>
        <mesh filename="package://assets/vis_1.stl"/>
      </geometry>
      <material name="vis_1_7_material">
        <color rgba="0.0980392 0.0980392 0.0980392 1"/>
      </material>
    </visual>
    <collision>
      <origin xyz="0 0 -0.0307" rpy="3.14159 1.5708 0"/>
      <geometry>
        <mesh filename="package://assets/vis_1.stl"/>
      </geometry>
    </collision>
    <!-- Part composant2_7 -->
    <visual>
      <origin xyz="0 0 -0.0307" rpy="3.14159 1.5708 0"/>
      <geometry>
        <mesh filename="package://assets/composant2.stl"/>
      </geometry>
      <material name="composant2_7_material">
        <color rgba="0.960784 0.960784 0.964706 1"/>
      </material>
    </visual>
    <collision>
      <origin xyz="0 0 -0.0307" rpy="3.14159 1.5708 0"/>
      <geometry>
        <mesh filename="package://assets/composant2.stl"/>
      </geometry>
    </collision>
    <!-- Part servo_motor_sts3215_v10_7 -->
    <visual>
      <origin xyz="0 0 -0.0307" rpy="3.14159 1.5708 0"/>
      <geometry>
        <mesh filename="package://assets/servo_motor_sts3215_v10.stl"/>
      </geometry>
      <material name="servo_motor_sts3215_v10_7_material">
        <color rgba="0.247059 0.247059 0.247059 1"/>
      </material>
    </visual>
    <collision>
      <origin xyz="0 0 -0.0307" rpy="3.14159 1.5708 0"/>
      <geometry>
        <mesh filename="package://assets/servo_motor_sts3215_v10.stl"/>
      </geometry>
    </collision>
  </link>
  <!-- Link servo_holder_2_right -->
  <link name="servo_holder_2_right">
    <inertial>
      <origin xyz="-0.0579795 -0.000696507 0.0162624" rpy="0 0 0"/>
      <mass value="0.103289"/>
      <inertia ixx="4.12917e-05" ixy="1.79684e-06" ixz="-2.68334e-06" iyy="7.95052e-05" iyz="2.69597e-07" izz="5.11299e-05"/>
    </inertial>
    <!-- Part servo_holder_2_right -->
    <visual>
      <origin xyz="0.100812 0.0182 0.0129527" rpy="-1.5708 0.104008 6.19646e-33"/>
      <geometry>
        <mesh filename="package://assets/servo_holder_2_right.stl"/>
      </geometry>
      <material name="servo_holder_2_right_material">
        <color rgba="0.262745 0.282353 0.301961 1"/>
      </material>
    </visual>
    <collision>
      <origin xyz="0.100812 0.0182 0.0129527" rpy="-1.5708 0.104008 6.19646e-33"/>
      <geometry>
        <mesh filename="package://assets/servo_holder_2_right.stl"/>
      </geometry>
    </collision>
    <!-- Part composant4_8 -->
    <visual>
      <origin xyz="-0.0689457 -1.38778e-16 0.00149936" rpy="-6.39169e-18 1.5708 0"/>
      <geometry>
        <mesh filename="package://assets/composant4.stl"/>
      </geometry>
      <material name="composant4_8_material">
        <color rgba="0.952941 0.796078 0.486275 1"/>
      </material>
    </visual>
    <collision>
      <origin xyz="-0.0689457 -1.38778e-16 0.00149936" rpy="-6.39169e-18 1.5708 0"/>
      <geometry>
        <mesh filename="package://assets/composant4.stl"/>
      </geometry>
    </collision>
    <!-- Part vis_à_tête_tronconique_jis_b_1111___m3_x_4___h_acier_inoxydable_a2_standard_v1_8 -->
    <visual>
      <origin xyz="-0.0689457 -1.38778e-16 0.00149936" rpy="-6.39169e-18 1.5708 0"/>
      <geometry>
        <mesh filename="package://assets/vis_à_tête_tronconique_jis_b_1111___m3_x_4___h_acier_inoxydable_a2_standard_v1.stl"/>
      </geometry>
      <material name="vis_à_tête_tronconique_jis_b_1111___m3_x_4___h_acier_inoxydable_a2_standard_v1_8_material">
        <color rgba="0.796078 0.796078 0.796078 1"/>
      </material>
    </visual>
    <collision>
      <origin xyz="-0.0689457 -1.38778e-16 0.00149936" rpy="-6.39169e-18 1.5708 0"/>
      <geometry>
        <mesh filename="package://assets/vis_à_tête_tronconique_jis_b_1111___m3_x_4___h_acier_inoxydable_a2_standard_v1.stl"/>
      </geometry>
    </collision>
    <!-- Part vis_8 -->
    <visual>
      <origin xyz="-0.0689457 -1.38778e-16 0.00149936" rpy="-6.39169e-18 1.5708 0"/>
      <geometry>
        <mesh filename="package://assets/vis.stl"/>
      </geometry>
      <material name="vis_8_material">
        <color rgba="0.0980392 0.0980392 0.0980392 1"/>
      </material>
    </visual>
    <collision>
      <origin xyz="-0.0689457 -1.38778e-16 0.00149936" rpy="-6.39169e-18 1.5708 0"/>
      <geometry>
        <mesh filename="package://assets/vis.stl"/>
      </geometry>
    </collision>
    <!-- Part composant3_8 -->
    <visual>
      <origin xyz="-0.0689457 -1.38778e-16 0.00149936" rpy="-6.39169e-18 1.5708 0"/>
      <geometry>
        <mesh filename="package://assets/composant3.stl"/>
      </geometry>
      <material name="composant3_8_material">
        <color rgba="0.960784 0.960784 0.964706 1"/>
      </material>
    </visual>
    <collision>
      <origin xyz="-0.0689457 -1.38778e-16 0.00149936" rpy="-6.39169e-18 1.5708 0"/>
      <geometry>
        <mesh filename="package://assets/composant3.stl"/>
      </geometry>
    </collision>
    <!-- Part vis_1_8 -->
    <visual>
      <origin xyz="-0.0689457 -1.38778e-16 0.00149936" rpy="-6.39169e-18 1.5708 0"/>
      <geometry>
        <mesh filename="package://assets/vis_1.stl"/>
      </geometry>
      <material name="vis_1_8_material">
        <color rgba="0.0980392 0.0980392 0.0980392 1"/>
      </material>
    </visual>
    <collision>
      <origin xyz="-0.0689457 -1.38778e-16 0.00149936" rpy="-6.39169e-18 1.5708 0"/>
      <geometry>
        <mesh filename="package://assets/vis_1.stl"/>
      </geometry>
    </collision>
    <!-- Part composant2_8 -->
    <visual>
      <origin xyz="-0.0689457 -1.38778e-16 0.00149936" rpy="-6.39169e-18 1.5708 0"/>
      <geometry>
        <mesh filename="package://assets/composant2.stl"/>
      </geometry>
      <material name="composant2_8_material">
        <color rgba="0.960784 0.960784 0.964706 1"/>
      </material>
    </visual>
    <collision>
      <origin xyz="-0.0689457 -1.38778e-16 0.00149936" rpy="-6.39169e-18 1.5708 0"/>
      <geometry>
        <mesh filename="package://assets/composant2.stl"/>
      </geometry>
    </collision>
    <!-- Part servo_motor_sts3215_v10_8 -->
    <visual>
      <origin xyz="-0.0689457 -1.38778e-16 0.00149936" rpy="-6.39169e-18 1.5708 0"/>
      <geometry>
        <mesh filename="package://assets/servo_motor_sts3215_v10.stl"/>
      </geometry>
      <material name="servo_motor_sts3215_v10_8_material">
        <color rgba="0.247059 0.247059 0.247059 1"/>
      </material>
    </visual>
    <collision>
      <origin xyz="-0.0689457 -1.38778e-16 0.00149936" rpy="-6.39169e-18 1.5708 0"/>
      <geometry>
        <mesh filename="package://assets/servo_motor_sts3215_v10.stl"/>
      </geometry>
    </collision>
  </link>
  <!-- Link servo_holder_3_right -->
  <link name="servo_holder_3_right">
    <inertial>
      <origin xyz="0.0267598 -0.0111946 0.00428741" rpy="0 0 0"/>
      <mass value="0.19139"/>
      <inertia ixx="0.000184101" ixy="-8.75426e-05" ixz="-2.97666e-05" iyy="0.000536224" iyz="-1.61578e-05" izz="0.000608313"/>
    </inertial>
    <!-- Part servo_holder_3_right -->
    <visual>
      <origin xyz="0.0104609 0.00943185 0.270604" rpy="-0.0695773 0.0773707 -2.98693e-18"/>
      <geometry>
        <mesh filename="package://assets/servo_holder_3_right.stl"/>
      </geometry>
      <material name="servo_holder_3_right_material">
        <color rgba="0.301961 0.301961 0.301961 1"/>
      </material>
    </visual>
    <collision>
      <origin xyz="0.0104609 0.00943185 0.270604" rpy="-0.0695773 0.0773707 -2.98693e-18"/>
      <geometry>
        <mesh filename="package://assets/servo_holder_3_right.stl"/>
      </geometry>
    </collision>
    <!-- Part servo_shield_right -->
    <visual>
      <origin xyz="0.0104609 0.00943185 0.270604" rpy="-0.0695773 0.0773707 -1.14342e-16"/>
      <geometry>
        <mesh filename="package://assets/servo_shield_right.stl"/>
      </geometry>
      <material name="servo_shield_right_material">
        <color rgba="0.917647 0.917647 0.917647 1"/>
      </material>
    </visual>
    <collision>
      <origin xyz="0.0104609 0.00943185 0.270604" rpy="-0.0695773 0.0773707 -1.14342e-16"/>
      <geometry>
        <mesh filename="package://assets/servo_shield_right.stl"/>
      </geometry>
    </collision>
    <!-- Part composant4_9 -->
    <visual>
      <origin xyz="0.0732923 0.000197454 0.0178756" rpy="-0.0347365 -2.24164e-17 0.00269405"/>
      <geometry>
        <mesh filename="package://assets/composant4.stl"/>
      </geometry>
      <material name="composant4_9_material">
        <color rgba="0.952941 0.796078 0.486275 1"/>
      </material>
    </visual>
    <collision>
      <origin xyz="0.0732923 0.000197454 0.0178756" rpy="-0.0347365 -2.24164e-17 0.00269405"/>
      <geometry>
        <mesh filename="package://assets/composant4.stl"/>
      </geometry>
    </collision>
    <!-- Part vis_à_tête_tronconique_jis_b_1111___m3_x_4___h_acier_inoxydable_a2_standard_v1_9 -->
    <visual>
      <origin xyz="0.0732923 0.000197454 0.0178756" rpy="-0.0347365 -2.24164e-17 0.00269405"/>
      <geometry>
        <mesh filename="package://assets/vis_à_tête_tronconique_jis_b_1111___m3_x_4___h_acier_inoxydable_a2_standard_v1.stl"/>
      </geometry>
      <material name="vis_à_tête_tronconique_jis_b_1111___m3_x_4___h_acier_inoxydable_a2_standard_v1_9_material">
        <color rgba="0.796078 0.796078 0.796078 1"/>
      </material>
    </visual>
    <collision>
      <origin xyz="0.0732923 0.000197454 0.0178756" rpy="-0.0347365 -2.24164e-17 0.00269405"/>
      <geometry>
        <mesh filename="package://assets/vis_à_tête_tronconique_jis_b_1111___m3_x_4___h_acier_inoxydable_a2_standard_v1.stl"/>
      </geometry>
    </collision>
    <!-- Part vis_9 -->
    <visual>
      <origin xyz="0.0732923 0.000197454 0.0178756" rpy="-0.0347365 -2.24164e-17 0.00269405"/>
      <geometry>
        <mesh filename="package://assets/vis.stl"/>
      </geometry>
      <material name="vis_9_material">
        <color rgba="0.0980392 0.0980392 0.0980392 1"/>
      </material>
    </visual>
    <collision>
      <origin xyz="0.0732923 0.000197454 0.0178756" rpy="-0.0347365 -2.24164e-17 0.00269405"/>
      <geometry>
        <mesh filename="package://assets/vis.stl"/>
      </geometry>
    </collision>
    <!-- Part composant3_9 -->
    <visual>
      <origin xyz="0.0732923 0.000197454 0.0178756" rpy="-0.0347365 -2.24164e-17 0.00269405"/>
      <geometry>
        <mesh filename="package://assets/composant3.stl"/>
      </geometry>
      <material name="composant3_9_material">
        <color rgba="0.960784 0.960784 0.964706 1"/>
      </material>
    </visual>
    <collision>
      <origin xyz="0.0732923 0.000197454 0.0178756" rpy="-0.0347365 -2.24164e-17 0.00269405"/>
      <geometry>
        <mesh filename="package://assets/composant3.stl"/>
      </geometry>
    </collision>
    <!-- Part vis_1_9 -->
    <visual>
      <origin xyz="0.0732923 0.000197454 0.0178756" rpy="-0.0347365 -2.24164e-17 0.00269405"/>
      <geometry>
        <mesh filename="package://assets/vis_1.stl"/>
      </geometry>
      <material name="vis_1_9_material">
        <color rgba="0.0980392 0.0980392 0.0980392 1"/>
      </material>
    </visual>
    <collision>
      <origin xyz="0.0732923 0.000197454 0.0178756" rpy="-0.0347365 -2.24164e-17 0.00269405"/>
      <geometry>
        <mesh filename="package://assets/vis_1.stl"/>
      </geometry>
    </collision>
    <!-- Part composant2_9 -->
    <visual>
      <origin xyz="0.0732923 0.000197454 0.0178756" rpy="-0.0347365 -2.24164e-17 0.00269405"/>
      <geometry>
        <mesh filename="package://assets/composant2.stl"/>
      </geometry>
      <material name="composant2_9_material">
        <color rgba="0.960784 0.960784 0.964706 1"/>
      </material>
    </visual>
    <collision>
      <origin xyz="0.0732923 0.000197454 0.0178756" rpy="-0.0347365 -2.24164e-17 0.00269405"/>
      <geometry>
        <mesh filename="package://assets/composant2.stl"/>
      </geometry>
    </collision>
    <!-- Part servo_motor_sts3215_v10_9 -->
    <visual>
      <origin xyz="0.0732923 0.000197454 0.0178756" rpy="-0.0347365 -2.24164e-17 0.00269405"/>
      <geometry>
        <mesh filename="package://assets/servo_motor_sts3215_v10.stl"/>
      </geometry>
      <material name="servo_motor_sts3215_v10_9_material">
        <color rgba="0.247059 0.247059 0.247059 1"/>
      </material>
    </visual>
    <collision>
      <origin xyz="0.0732923 0.000197454 0.0178756" rpy="-0.0347365 -2.24164e-17 0.00269405"/>
      <geometry>
        <mesh filename="package://assets/servo_motor_sts3215_v10.stl"/>
      </geometry>
    </collision>
  </link>
  <!-- Link servo_holder_4_2 -->
  <link name="servo_holder_4_2">
    <inertial>
      <origin xyz="0.0568324 1.23844e-08 0.0179583" rpy="0 0 0"/>
      <mass value="0.0685705"/>
      <inertia ixx="1.76251e-05" ixy="-1.73396e-11" ixz="3.72672e-07" iyy="5.60759e-05" iyz="-1.06476e-11" izz="4.51319e-05"/>
    </inertial>
    <!-- Part servo_holder_4_2 -->
    <visual>
      <origin xyz="-2.77556e-17 0 0.0364" rpy="2.25642e-18 1.16924e-20 4.86917e-20"/>
      <geometry>
        <mesh filename="package://assets/servo_holder_4.stl"/>
      </geometry>
      <material name="servo_holder_4_2_material">
        <color rgba="0.301961 0.301961 0.301961 1"/>
      </material>
    </visual>
    <collision>
      <origin xyz="-2.77556e-17 0 0.0364" rpy="2.25642e-18 1.16924e-20 4.86917e-20"/>
      <geometry>
        <mesh filename="package://assets/servo_holder_4.stl"/>
      </geometry>
    </collision>
    <!-- Part composant4_10 -->
    <visual>
      <origin xyz="0.0732925 -2.77556e-17 0.0185244" rpy="-3.14159 -1.05775e-16 4.72905e-17"/>
      <geometry>
        <mesh filename="package://assets/composant4.stl"/>
      </geometry>
      <material name="composant4_10_material">
        <color rgba="0.952941 0.796078 0.486275 1"/>
      </material>
    </visual>
    <collision>
      <origin xyz="0.0732925 -2.77556e-17 0.0185244" rpy="-3.14159 -1.05775e-16 4.72905e-17"/>
      <geometry>
        <mesh filename="package://assets/composant4.stl"/>
      </geometry>
    </collision>
    <!-- Part vis_à_tête_tronconique_jis_b_1111___m3_x_4___h_acier_inoxydable_a2_standard_v1_10 -->
    <visual>
      <origin xyz="0.0732925 -2.77556e-17 0.0185244" rpy="-3.14159 -1.05775e-16 4.72905e-17"/>
      <geometry>
        <mesh filename="package://assets/vis_à_tête_tronconique_jis_b_1111___m3_x_4___h_acier_inoxydable_a2_standard_v1.stl"/>
      </geometry>
      <material name="vis_à_tête_tronconique_jis_b_1111___m3_x_4___h_acier_inoxydable_a2_standard_v1_10_material">
        <color rgba="0.796078 0.796078 0.796078 1"/>
      </material>
    </visual>
    <collision>
      <origin xyz="0.0732925 -2.77556e-17 0.0185244" rpy="-3.14159 -1.05775e-16 4.72905e-17"/>
      <geometry>
        <mesh filename="package://assets/vis_à_tête_tronconique_jis_b_1111___m3_x_4___h_acier_inoxydable_a2_standard_v1.stl"/>
      </geometry>
    </collision>
    <!-- Part vis_10 -->
    <visual>
      <origin xyz="0.0732925 -2.77556e-17 0.0185244" rpy="-3.14159 -1.05775e-16 4.72905e-17"/>
      <geometry>
        <mesh filename="package://assets/vis.stl"/>
      </geometry>
      <material name="vis_10_material">
        <color rgba="0.0980392 0.0980392 0.0980392 1"/>
      </material>
    </visual>
    <collision>
      <origin xyz="0.0732925 -2.77556e-17 0.0185244" rpy="-3.14159 -1.05775e-16 4.72905e-17"/>
      <geometry>
        <mesh filename="package://assets/vis.stl"/>
      </geometry>
    </collision>
    <!-- Part composant3_10 -->
    <visual>
      <origin xyz="0.0732925 -2.77556e-17 0.0185244" rpy="-3.14159 -1.05775e-16 4.72905e-17"/>
      <geometry>
        <mesh filename="package://assets/composant3.stl"/>
      </geometry>
      <material name="composant3_10_material">
        <color rgba="0.960784 0.960784 0.964706 1"/>
      </material>
    </visual>
    <collision>
      <origin xyz="0.0732925 -2.77556e-17 0.0185244" rpy="-3.14159 -1.05775e-16 4.72905e-17"/>
      <geometry>
        <mesh filename="package://assets/composant3.stl"/>
      </geometry>
    </collision>
    <!-- Part vis_1_10 -->
    <visual>
      <origin xyz="0.0732925 -2.77556e-17 0.0185244" rpy="-3.14159 -1.05775e-16 4.72905e-17"/>
      <geometry>
        <mesh filename="package://assets/vis_1.stl"/>
      </geometry>
      <material name="vis_1_10_material">
        <color rgba="0.0980392 0.0980392 0.0980392 1"/>
      </material>
    </visual>
    <collision>
      <origin xyz="0.0732925 -2.77556e-17 0.0185244" rpy="-3.14159 -1.05775e-16 4.72905e-17"/>
      <geometry>
        <mesh filename="package://assets/vis_1.stl"/>
      </geometry>
    </collision>
    <!-- Part composant2_10 -->
    <visual>
      <origin xyz="0.0732925 -2.77556e-17 0.0185244" rpy="-3.14159 -1.05775e-16 4.72905e-17"/>
      <geometry>
        <mesh filename="package://assets/composant2.stl"/>
      </geometry>
      <material name="composant2_10_material">
        <color rgba="0.960784 0.960784 0.964706 1"/>
      </material>
    </visual>
    <collision>
      <origin xyz="0.0732925 -2.77556e-17 0.0185244" rpy="-3.14159 -1.05775e-16 4.72905e-17"/>
      <geometry>
        <mesh filename="package://assets/composant2.stl"/>
      </geometry>
    </collision>
    <!-- Part servo_motor_sts3215_v10_10 -->
    <visual>
      <origin xyz="0.0732925 -2.77556e-17 0.0185244" rpy="-3.14159 -1.05775e-16 4.72905e-17"/>
      <geometry>
        <mesh filename="package://assets/servo_motor_sts3215_v10.stl"/>
      </geometry>
      <material name="servo_motor_sts3215_v10_10_material">
        <color rgba="0.247059 0.247059 0.247059 1"/>
      </material>
    </visual>
    <collision>
      <origin xyz="0.0732925 -2.77556e-17 0.0185244" rpy="-3.14159 -1.05775e-16 4.72905e-17"/>
      <geometry>
        <mesh filename="package://assets/servo_motor_sts3215_v10.stl"/>
      </geometry>
    </collision>
  </link>
  <!-- Link cushion_right -->
  <link name="cushion_right">
    <inertial>
      <origin xyz="-0.0194706 -0.0420367 0.0158895" rpy="0 0 0"/>
      <mass value="0.191143"/>
      <inertia ixx="6.61931e-05" ixy="-3.74292e-06" ixz="-1.39333e-06" iyy="0.000224241" iyz="9.58456e-06" izz="0.00023826"/>
    </inertial>
    <!-- Part cushion_right -->
    <visual>
      <origin xyz="-5.55112e-17 -0.0516163 0.132131" rpy="-1.5708 -1.5708 0"/>
      <geometry>
        <mesh filename="package://assets/cushion_right.stl"/>
      </geometry>
      <material name="cushion_right_material">
        <color rgba="0 0 0 1"/>
      </material>
    </visual>
    <collision>
      <origin xyz="-5.55112e-17 -0.0516163 0.132131" rpy="-1.5708 -1.5708 0"/>
      <geometry>
        <mesh filename="package://assets/cushion_right.stl"/>
      </geometry>
    </collision>
    <!-- Part foot_right -->
    <visual>
      <origin xyz="-2.77556e-17 -0.0516163 0.132131" rpy="-1.5708 -1.5708 0"/>
      <geometry>
        <mesh filename="package://assets/foot_right.stl"/>
      </geometry>
      <material name="foot_right_material">
        <color rgba="0.917647 0.917647 0.917647 1"/>
      </material>
    </visual>
  </link>
  <!-- Joint from servo_holder_4_2 to cushion_right -->
  <joint name="joint_5_right" type="revolute">
    <origin xyz="0.0857925 -5.55112e-17 -0.0001756" rpy="-2.82877e-16 -1.70324e-16 1.5708"/>
    <parent link="servo_holder_4_2"/>
    <child link="cushion_right"/>
    <axis xyz="0 0 1"/>
    <limit effort="2.686" velocity="9.01" lower="-1.5708" upper="1.22173"/>
    <dynamics damping="0.1" friction="0.05"/>
  </joint>
  <!-- Joint from servo_holder_3_right to servo_holder_4_2 -->
  <joint name="joint_4_right" type="revolute">
    <origin xyz="0.0857939 -0.000383581 0.000186281" rpy="-0.0347365 -2.58859e-17 0.00269405"/>
    <parent link="servo_holder_3_right"/>
    <child link="servo_holder_4_2"/>
    <axis xyz="0 0 1"/>
    <limit effort="2.686" velocity="9.01" lower="-1.13446" upper="0.558505"/>
    <dynamics damping="0.1" friction="0.05"/>
  </joint>
  <!-- Joint from servo_holder_2_right to servo_holder_3_right -->
  <joint name="joint_3_right" type="revolute">
    <origin xyz="-0.0866457 -6.93889e-17 -0.0110006" rpy="-1.5708 -1.673e-16 -1.5708"/>
    <parent link="servo_holder_2_right"/>
    <child link="servo_holder_3_right"/>
    <axis xyz="0 0 1"/>
    <limit effort="2.686" velocity="9.01" lower="-3.14159" upper="0.349066"/>
    <dynamics damping="0.1" friction="0.05"/>
  </joint>
  <!-- Joint from servo_holder_1_2 to servo_holder_2_right -->
  <joint name="joint_2_right" type="revolute">
    <origin xyz="-0.0187 0 -0.0432" rpy="1.5708 -6.16298e-33 1.5708"/>
    <parent link="servo_holder_1_2"/>
    <child link="servo_holder_2_right"/>
    <axis xyz="0 0 1"/>
    <limit effort="2.686" velocity="9.01" lower="-0.698132" upper="0.785398"/>
    <dynamics damping="0.1" friction="0.05"/>
  </joint>
  <!-- Joint from front_panel to servo_holder_1_2 -->
  <joint name="joint_1_right" type="revolute">
    <origin xyz="-0.0505 0.0969262 -0.0255029" rpy="3.02761e-17 -1.58527e-19 -1.5708"/>
    <parent link="front_panel"/>
    <child link="servo_holder_1_2"/>
    <axis xyz="0 0 1"/>
    <limit effort="2.686" velocity="9.01" lower="-0.349066" upper="0.349066"/>
    <dynamics damping="0.1" friction="0.05"/>
  </joint>
</robot>
